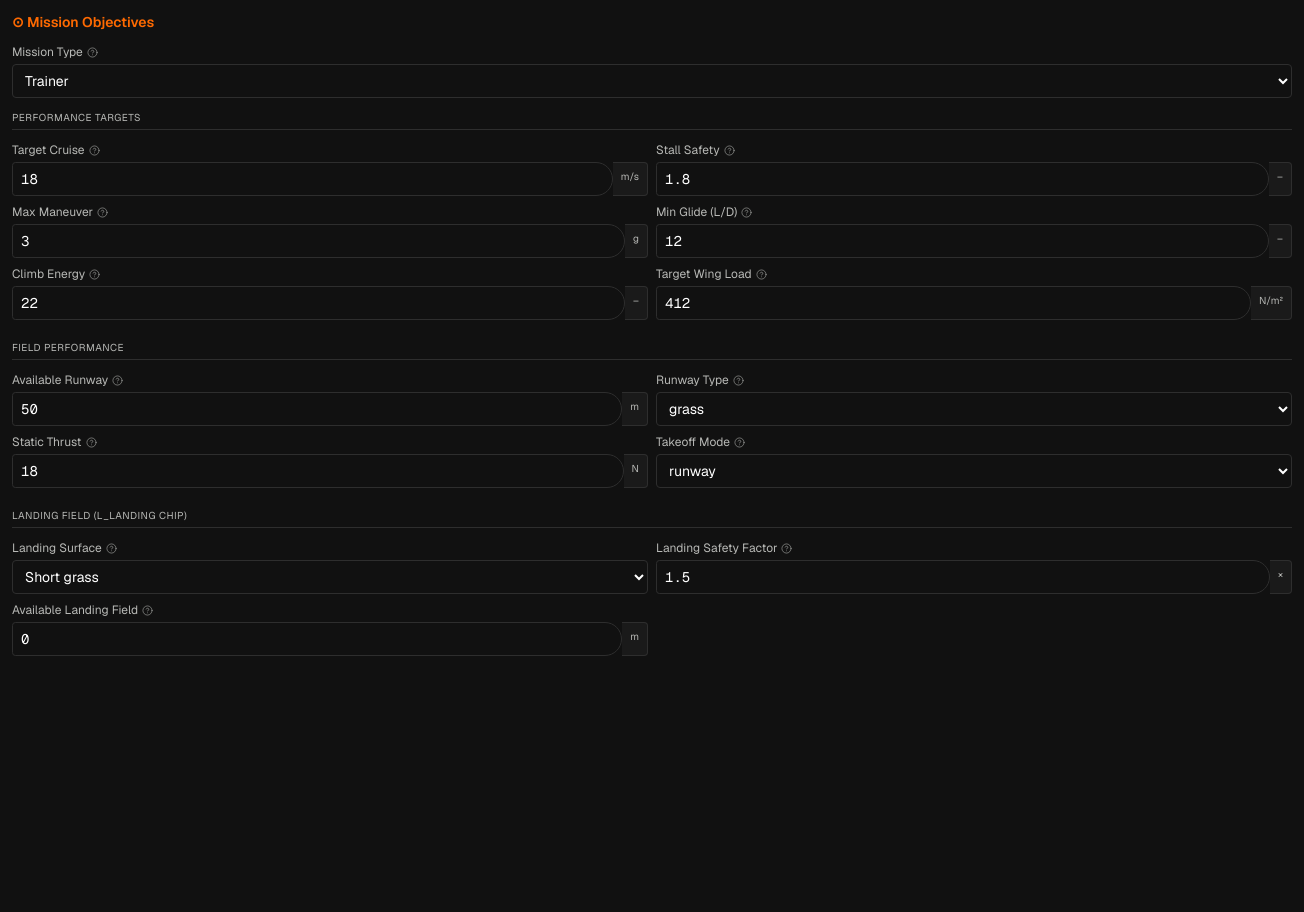
Scenario: MissionObjectivesPanel › does not apply targets when Dismiss is clicked (gh-601)
Select "Motor Glider" in the dropdown labelled "Mission Type": (652, 81) x1=12 y1=64 x2=1292 y2=98
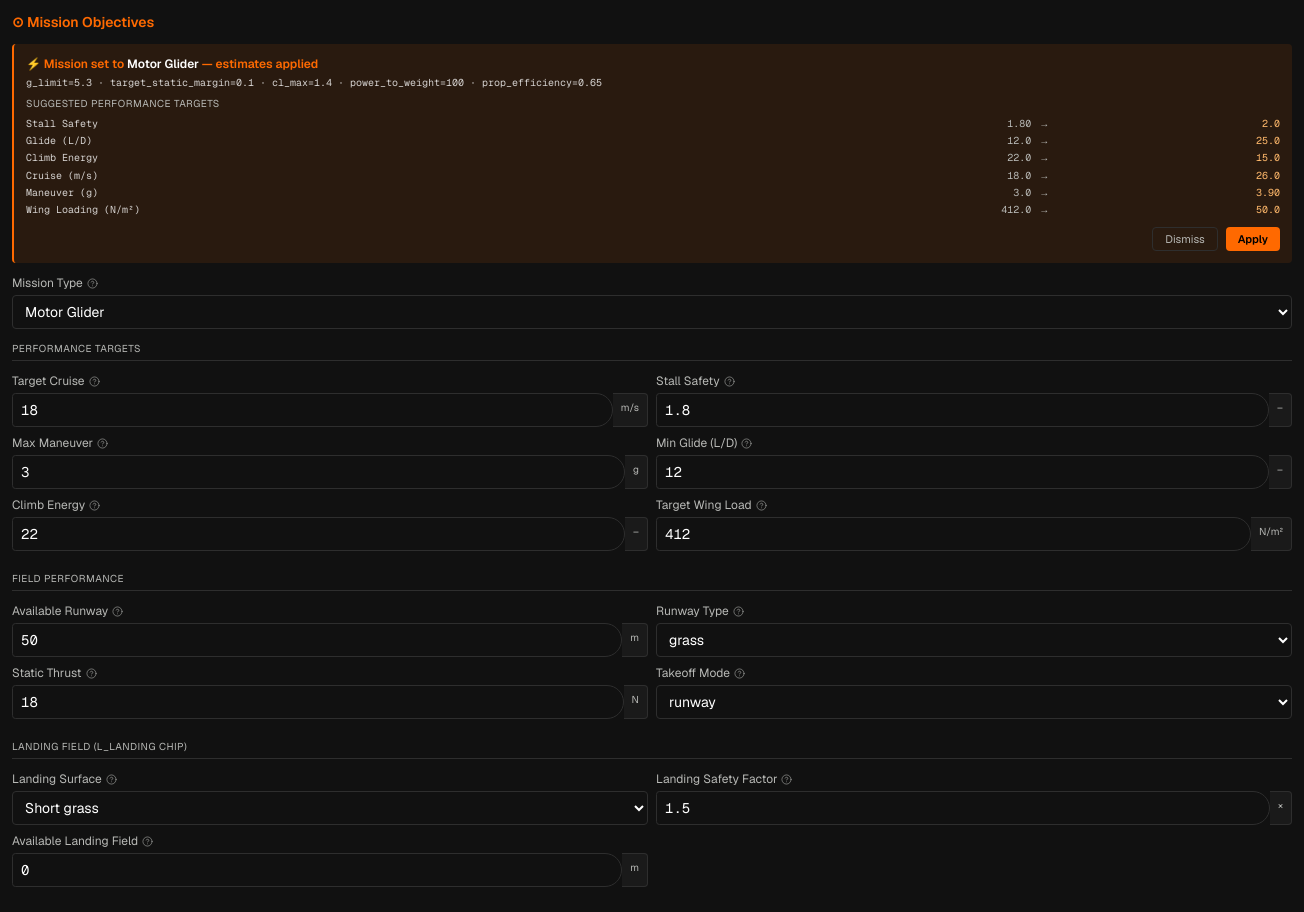
Click the button "Dismiss": (1185, 239) x1=1152 y1=227 x2=1218 y2=251
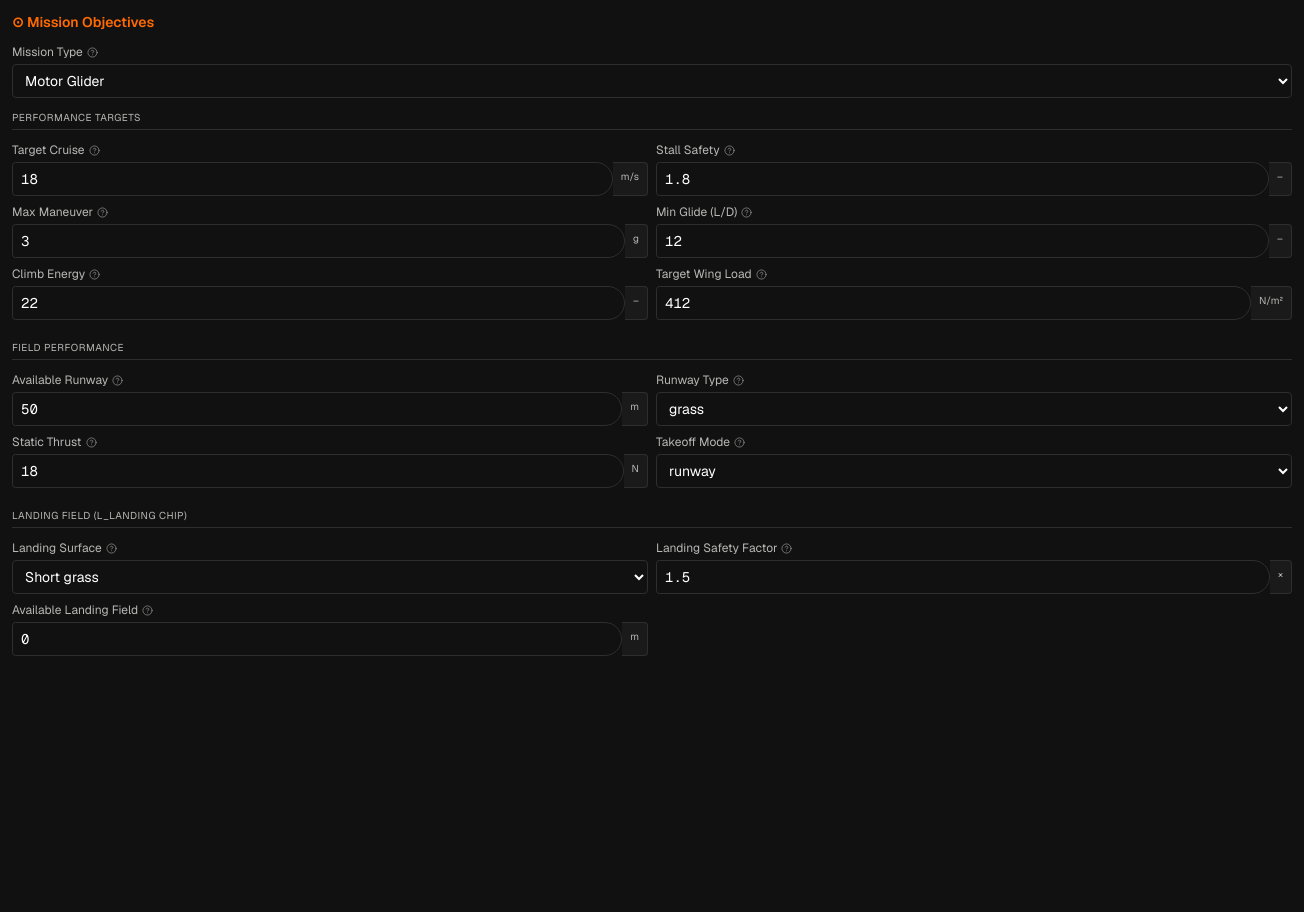
Check: the element with test id "mission-apply-banner" is gone
